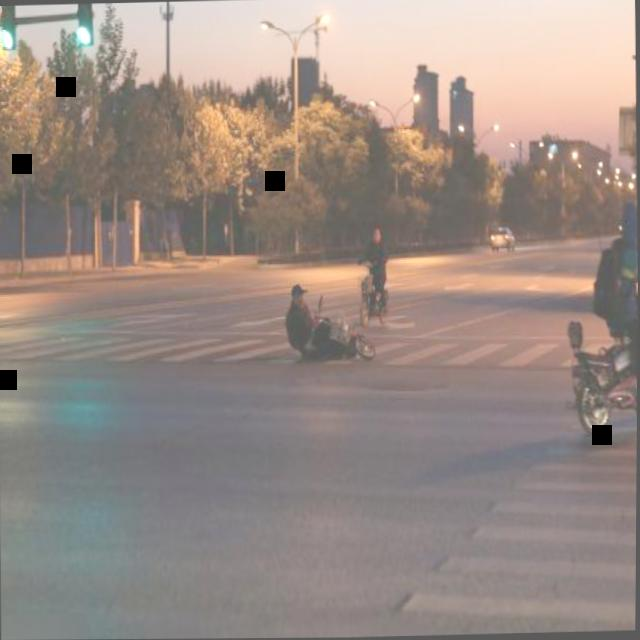Fall-Detected: (276, 267, 373, 374)
